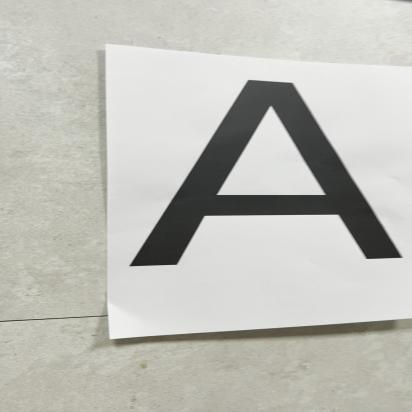seat: (125, 76, 412, 280), (121, 70, 398, 277)
